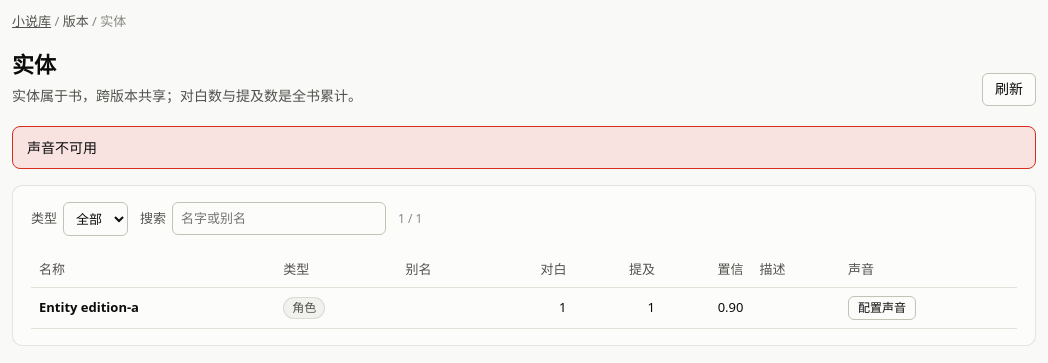
EntitiesPage loading and recovery › shows voices failures and retries once when the edition object changes but the book ID does not
Expected: the message "声音不可用" is shown, [12, 126, 1036, 168]
Click the button "刷新" at point(1009, 89), box [982, 73, 1036, 106]
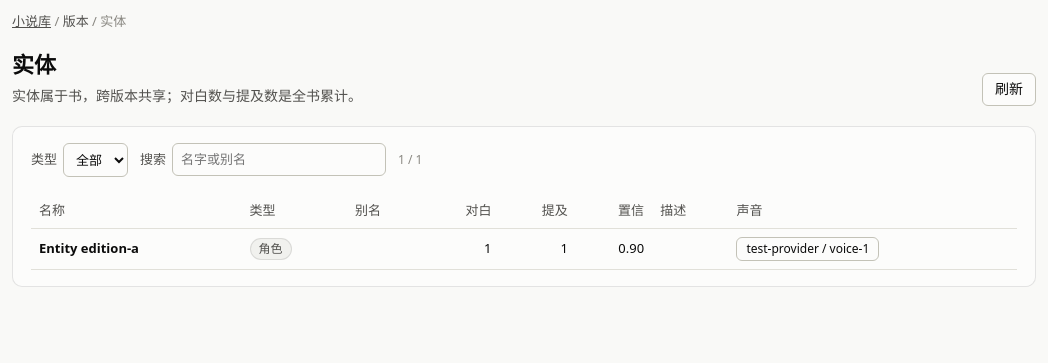
Expected: the text "test-provider / voice-1" is shown, [736, 237, 879, 261]
